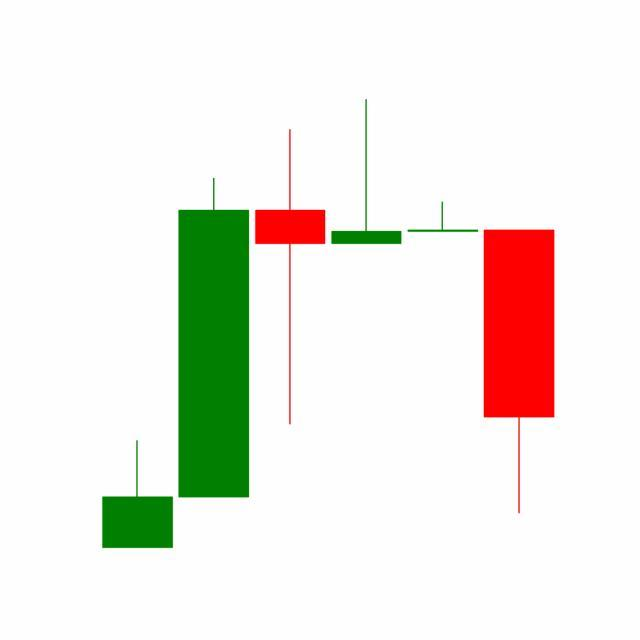Gravestone Doji: (404, 201, 482, 233)
